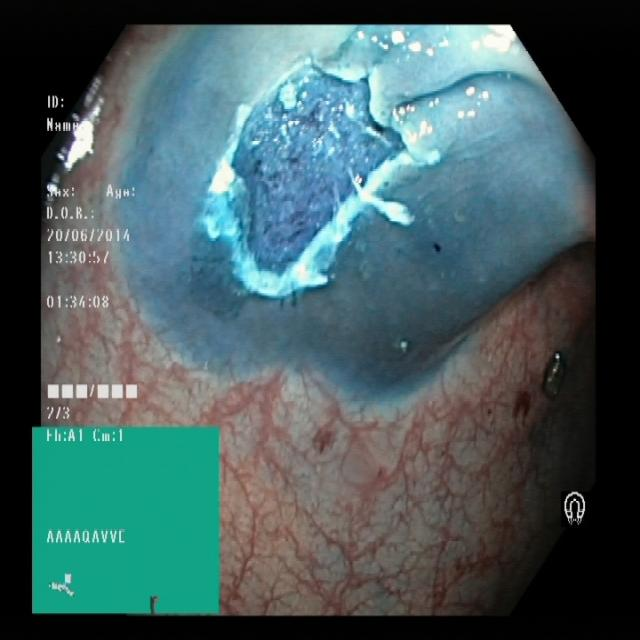dyed-resection-margins: (188, 44, 467, 299)
